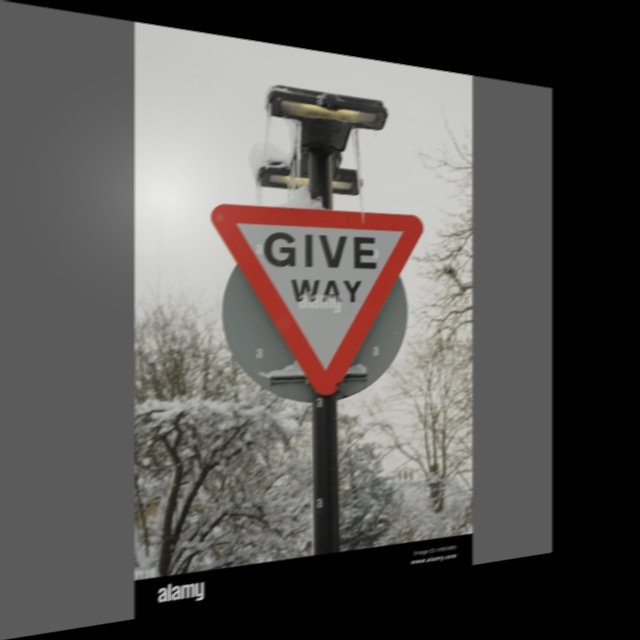Give_Way: (213, 201, 420, 403)
